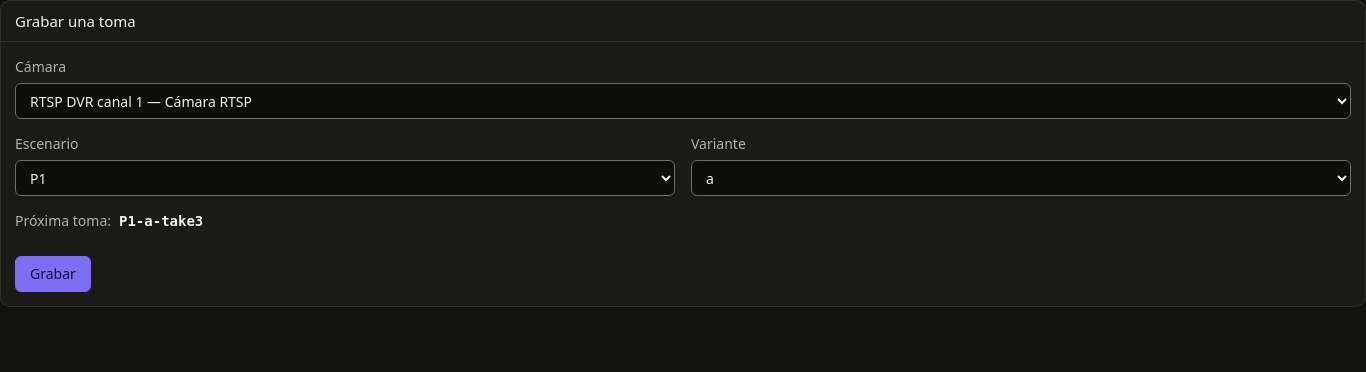
Scenario: RecordPanel › tras un rechazo se resincroniza con el backend en vez de asumir idle
Check: the text "P1-a-take3" is shown, box [119,211,203,232]
Click the button "Grabar" at (53, 274), box [15,256,91,292]
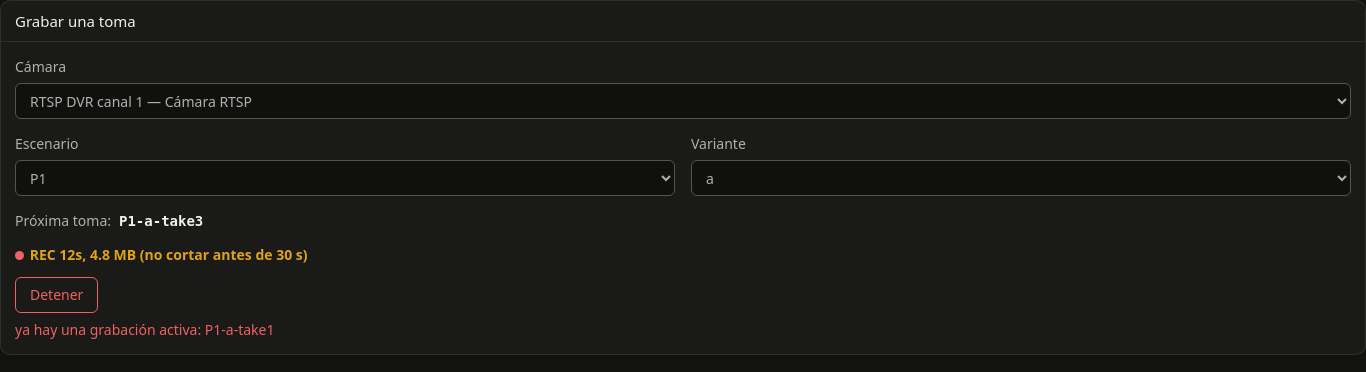
Check: the text "ya hay una grabación activa: P1-a-take1" is shown, box [15,320,274,339]
Check: the text "REC 12s, 4.8 MB (no cortar antes de 30 s)" is shown, box [15,245,308,264]
Check: the button "Detener" is shown, box [15,277,98,313]
